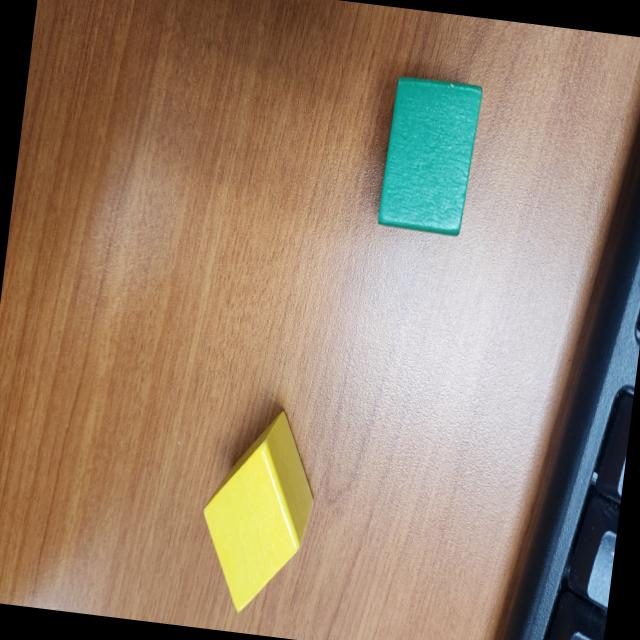green: (374, 75, 480, 238)
yellow: (203, 411, 314, 614)
